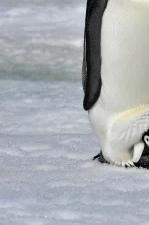Emperor Penguin: (74, 0, 149, 178)
